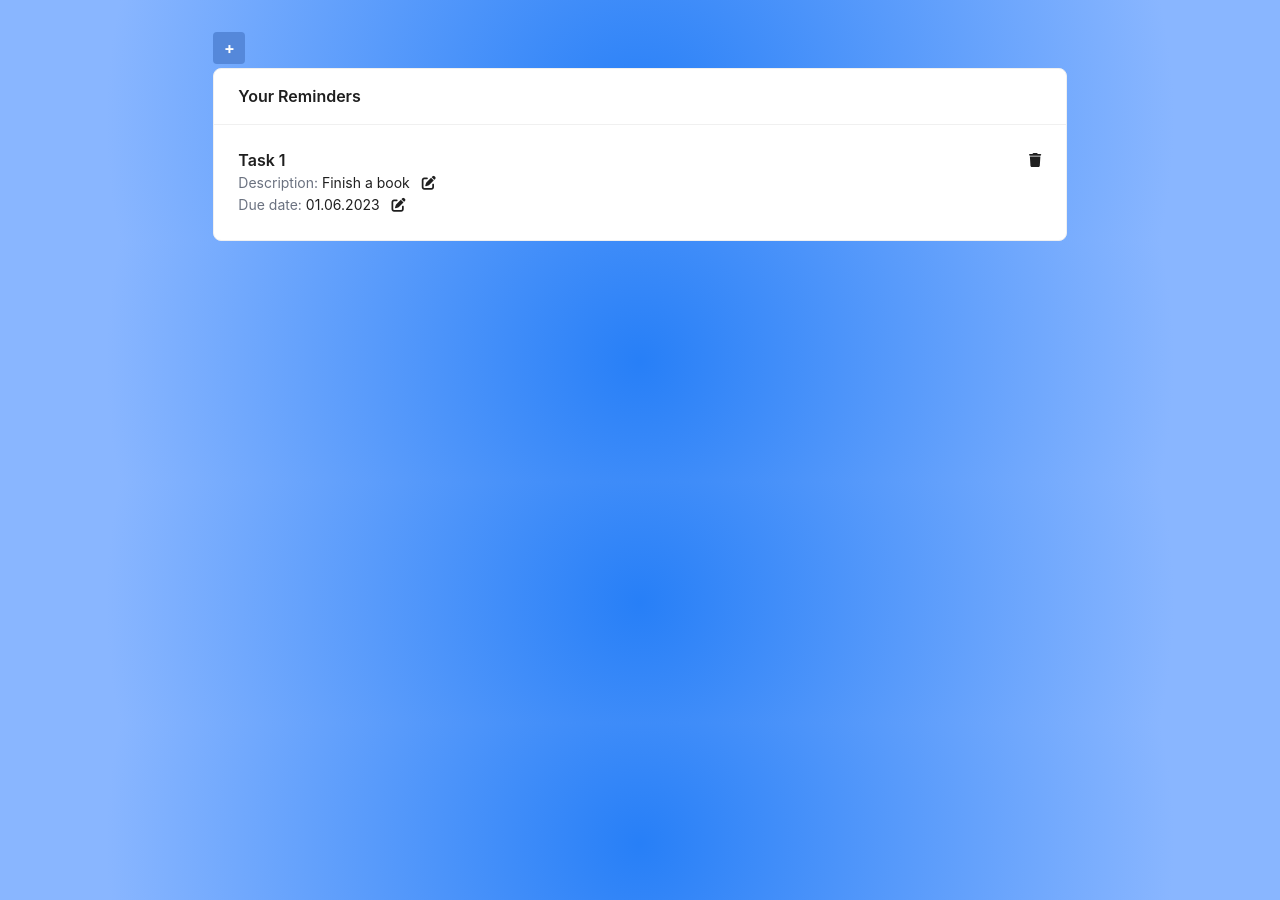
Test case: RemindersCardBody › opens add reminder modal
Click the button "+" at (229, 48), box [213,32,245,64]
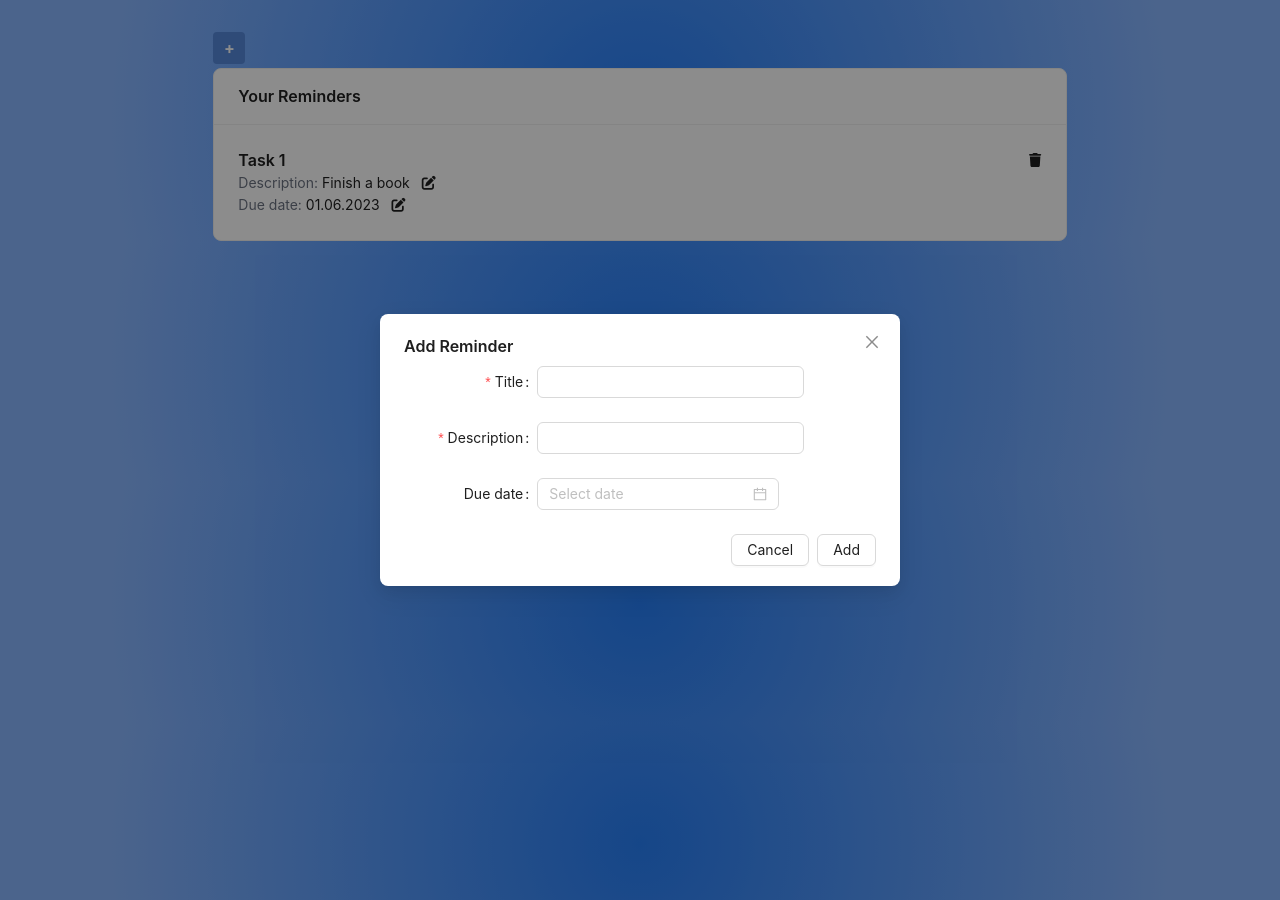
Now the dialog named "Add Reminder?" is shown, box [380,314,900,586]
